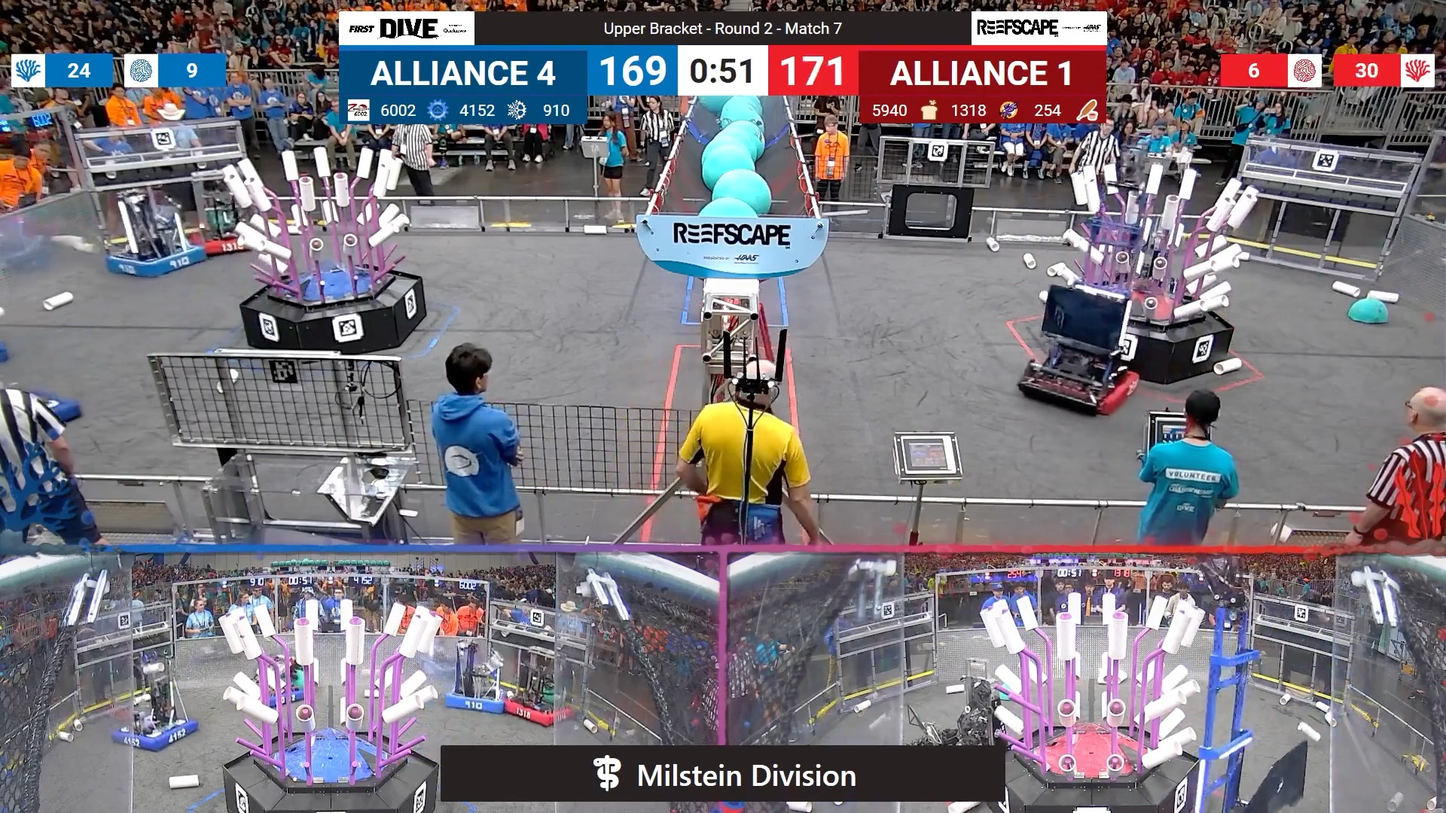bumpers: (1016, 352, 1142, 419), (100, 242, 217, 285), (106, 712, 208, 755), (496, 695, 576, 729), (441, 683, 519, 715), (184, 224, 260, 256)
